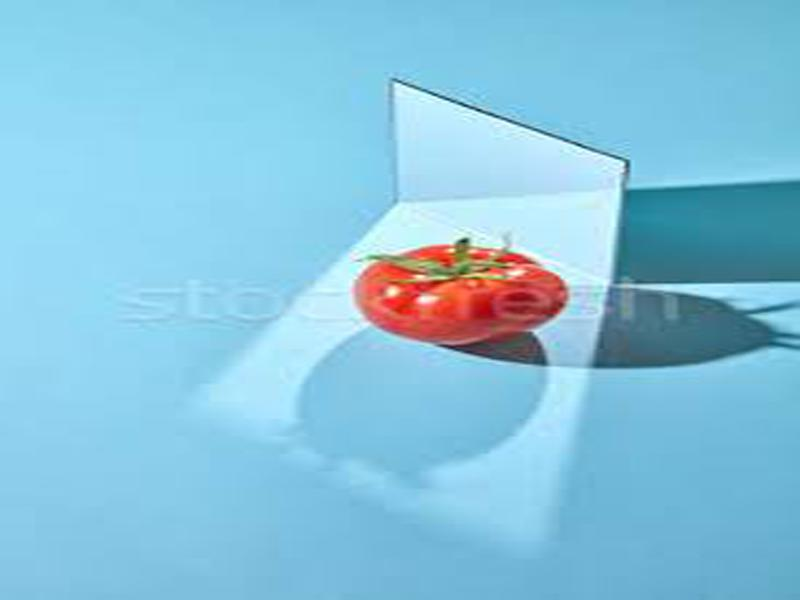Tomato: (354, 244, 568, 345)
